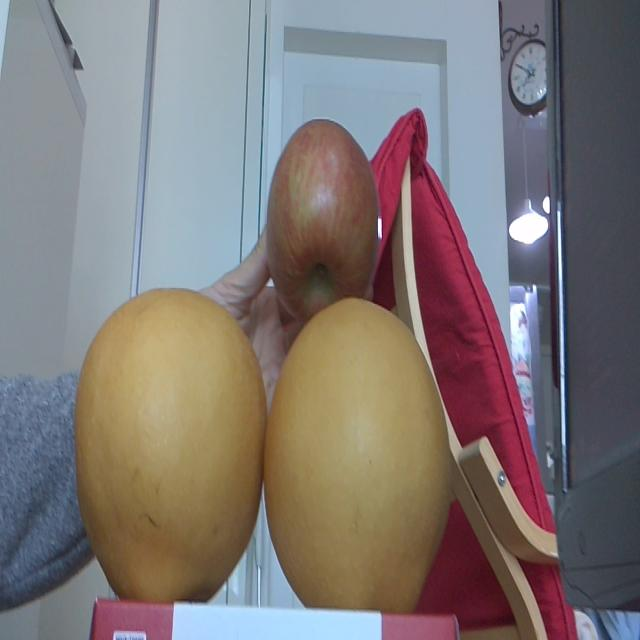apple: (264, 114, 387, 326)
pear: (74, 286, 266, 601), (266, 300, 458, 603)
